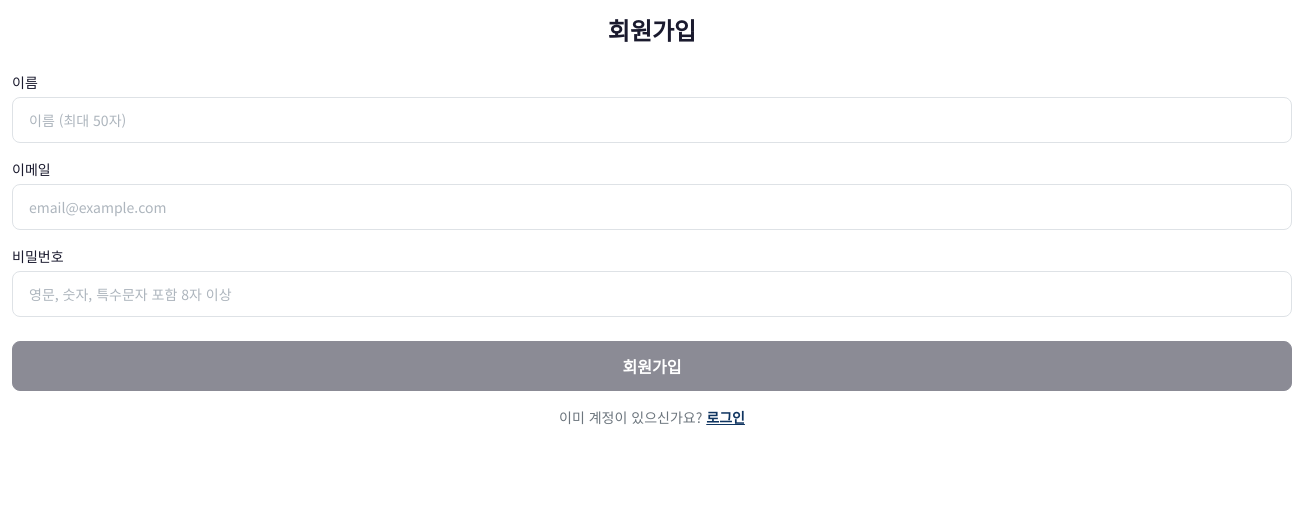
Test: SignupForm › 유효한 입력이면 버튼이 활성화된다
The width and height of the screenshot is (1304, 528).
Type "Tester" into the field labelled "이름" at (652, 120), box [12, 97, 1292, 143]
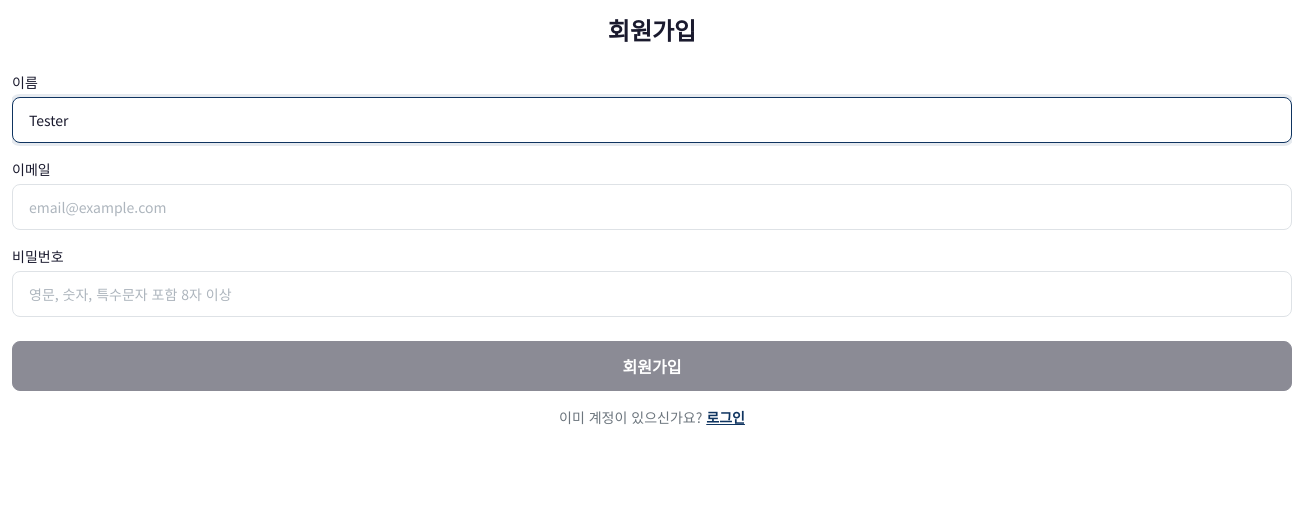
Type "test@test.com" into the field labelled "이메일" at (652, 207), box [12, 184, 1292, 230]
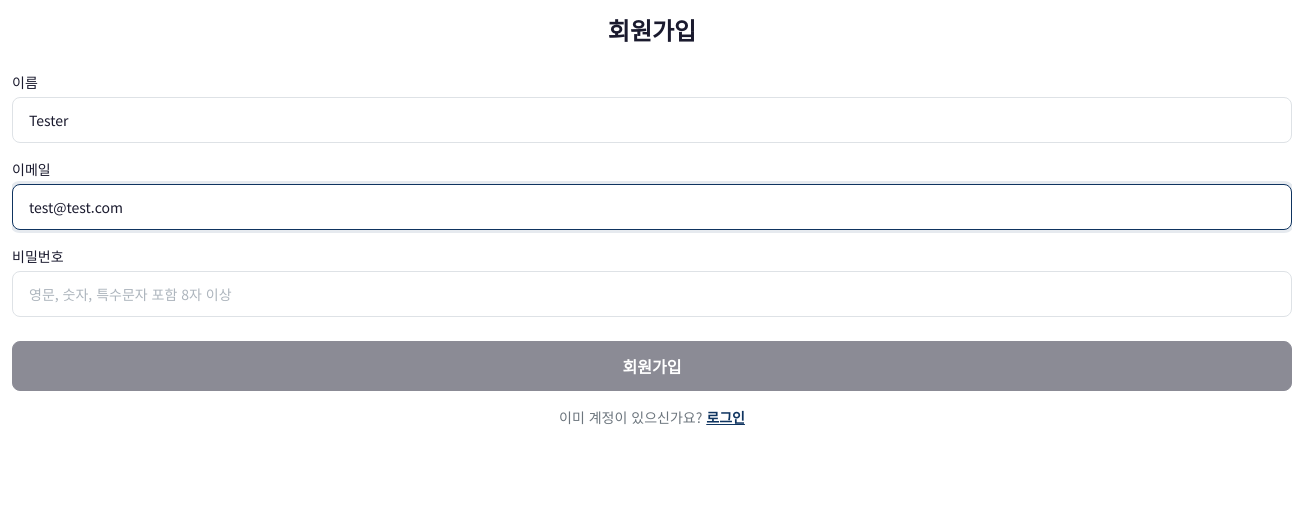
Type "Password123!" into the password field labelled "비밀번호" at (652, 294), box [12, 271, 1292, 317]
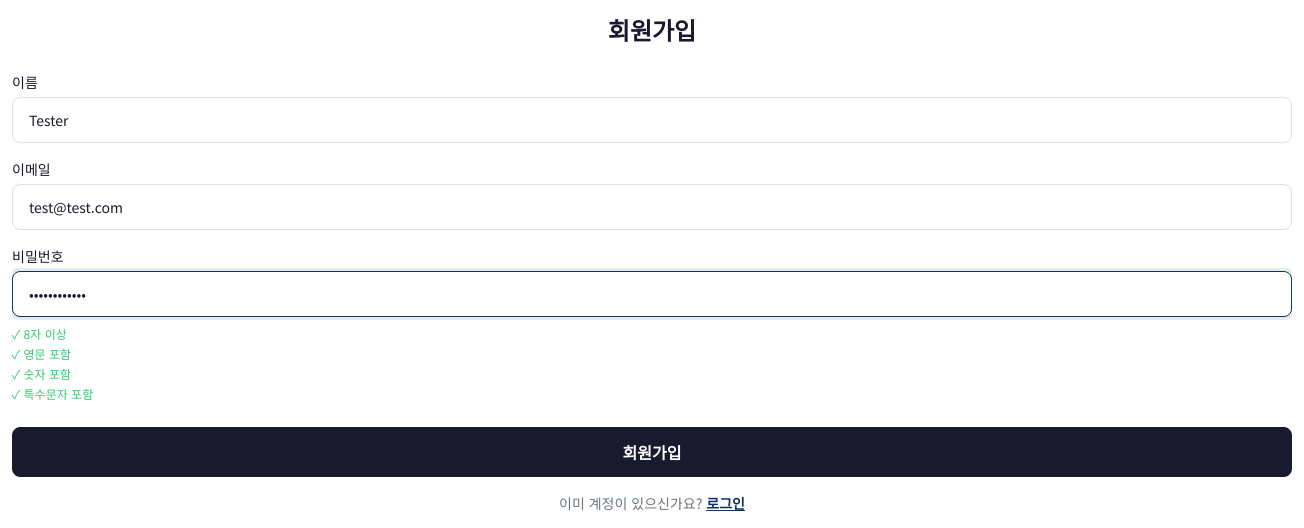
Now the button "회원가입" is enabled, box [12, 427, 1292, 477]
